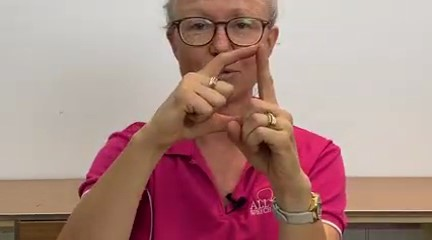D: (144, 36, 309, 179)
